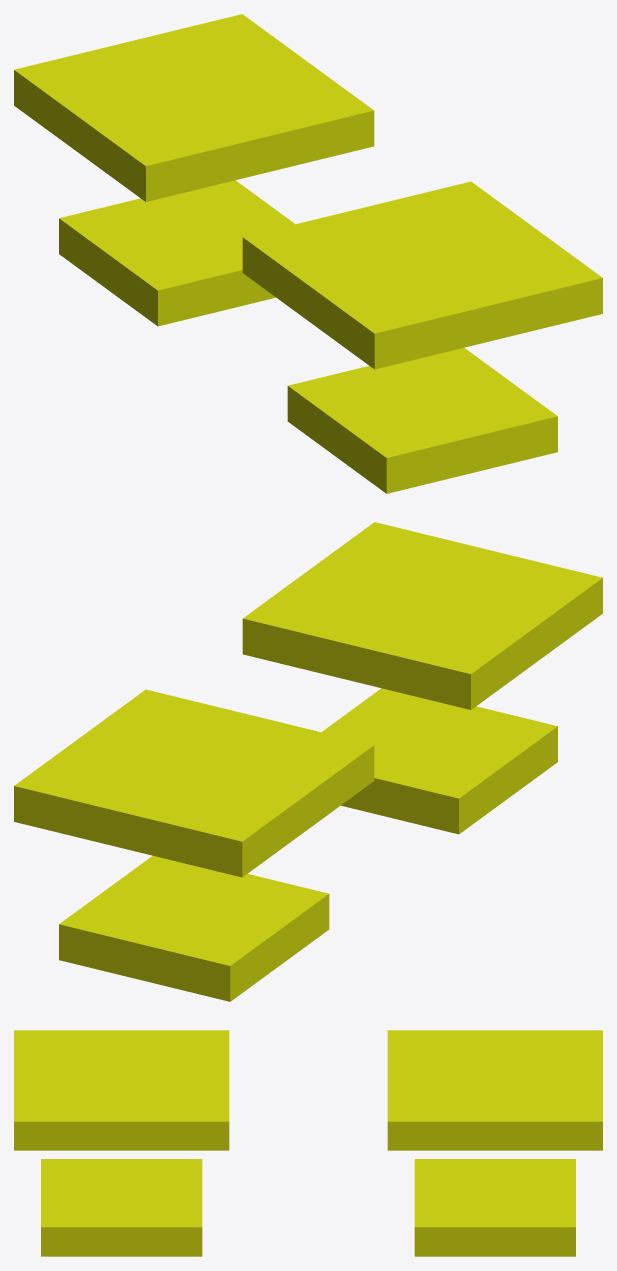
Rendered from Dynamic_10kg_0_5friction.fbx.
3 views of the same model, one above another, from view 1: azimuth 30°, elevation 25°; view 2: azimuth 150°, elevation 25°; view 3: azimuth 270°, elevation 25° (orthographic). The views are drawn at different scales.
Visible parts, largest first — view 1: D1DynamicBox52, D1DynamicBox51, D1DynamicBox53, D1DynamicBox54; view 2: D1DynamicBox51, D1DynamicBox52, D1DynamicBox54, D1DynamicBox53; view 3: D1DynamicBox51, D1DynamicBox52, D1DynamicBox53, D1DynamicBox54.
Boxes of the visible parts, x1=… form: D1DynamicBox52: x1=242, y1=181, x2=602, y2=369; D1DynamicBox51: x1=14, y1=14, x2=374, y2=201; D1DynamicBox53: x1=287, y1=348, x2=557, y2=493; D1DynamicBox54: x1=59, y1=180, x2=294, y2=326; D1DynamicBox51: x1=14, y1=689, x2=374, y2=877; D1DynamicBox52: x1=242, y1=522, x2=602, y2=709; D1DynamicBox54: x1=59, y1=856, x2=329, y2=1001; D1DynamicBox53: x1=322, y1=688, x2=557, y2=834; D1DynamicBox51: x1=387, y1=1030, x2=602, y2=1150; D1DynamicBox52: x1=14, y1=1030, x2=229, y2=1150; D1DynamicBox53: x1=41, y1=1159, x2=202, y2=1256; D1DynamicBox54: x1=414, y1=1159, x2=575, y2=1256.
Size of what is drawn, in the model's own units: 20 by 15 by 54.69.
